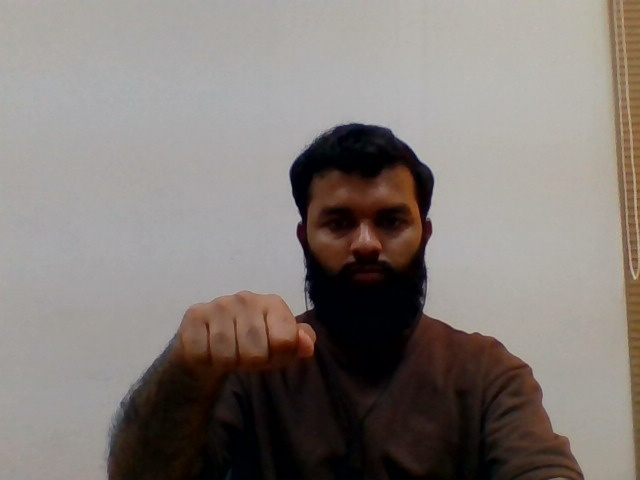Yes: (168, 283, 327, 388)
